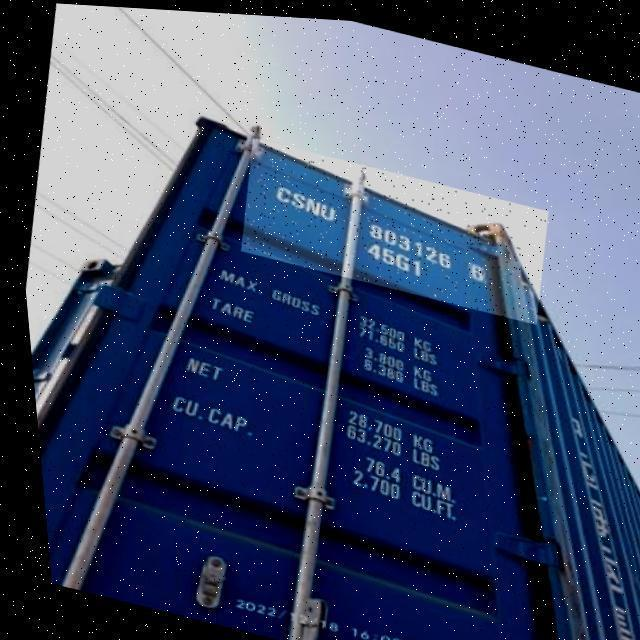container_number_h: (228, 134, 553, 319)
